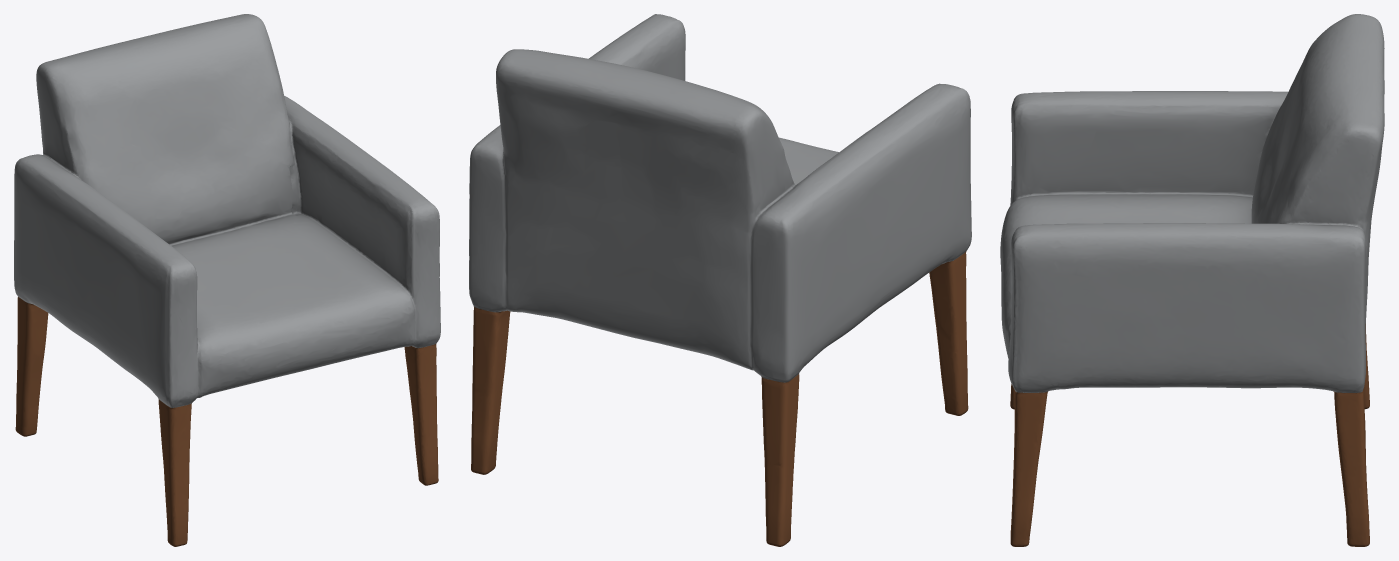
Rendered from rubi-066.glb.
3 views of the same model, side by side, from view 1: azimuth 30°, elevation 25°; view 2: azimuth 150°, elevation 25°; view 3: azimuth 270°, elevation 25° (orthographic). The views are drawn at different scales.
Visible parts, largest first — view 1: Sofa; view 2: Sofa; view 3: Sofa.
Boxes of the visible parts, x1,y1,x2,y2 form: Sofa: [14, 14, 440, 546]; Sofa: [469, 14, 971, 546]; Sofa: [1000, 14, 1384, 546].
Bounding box in the file's own units: 0.66 × 0.82 × 0.7.
